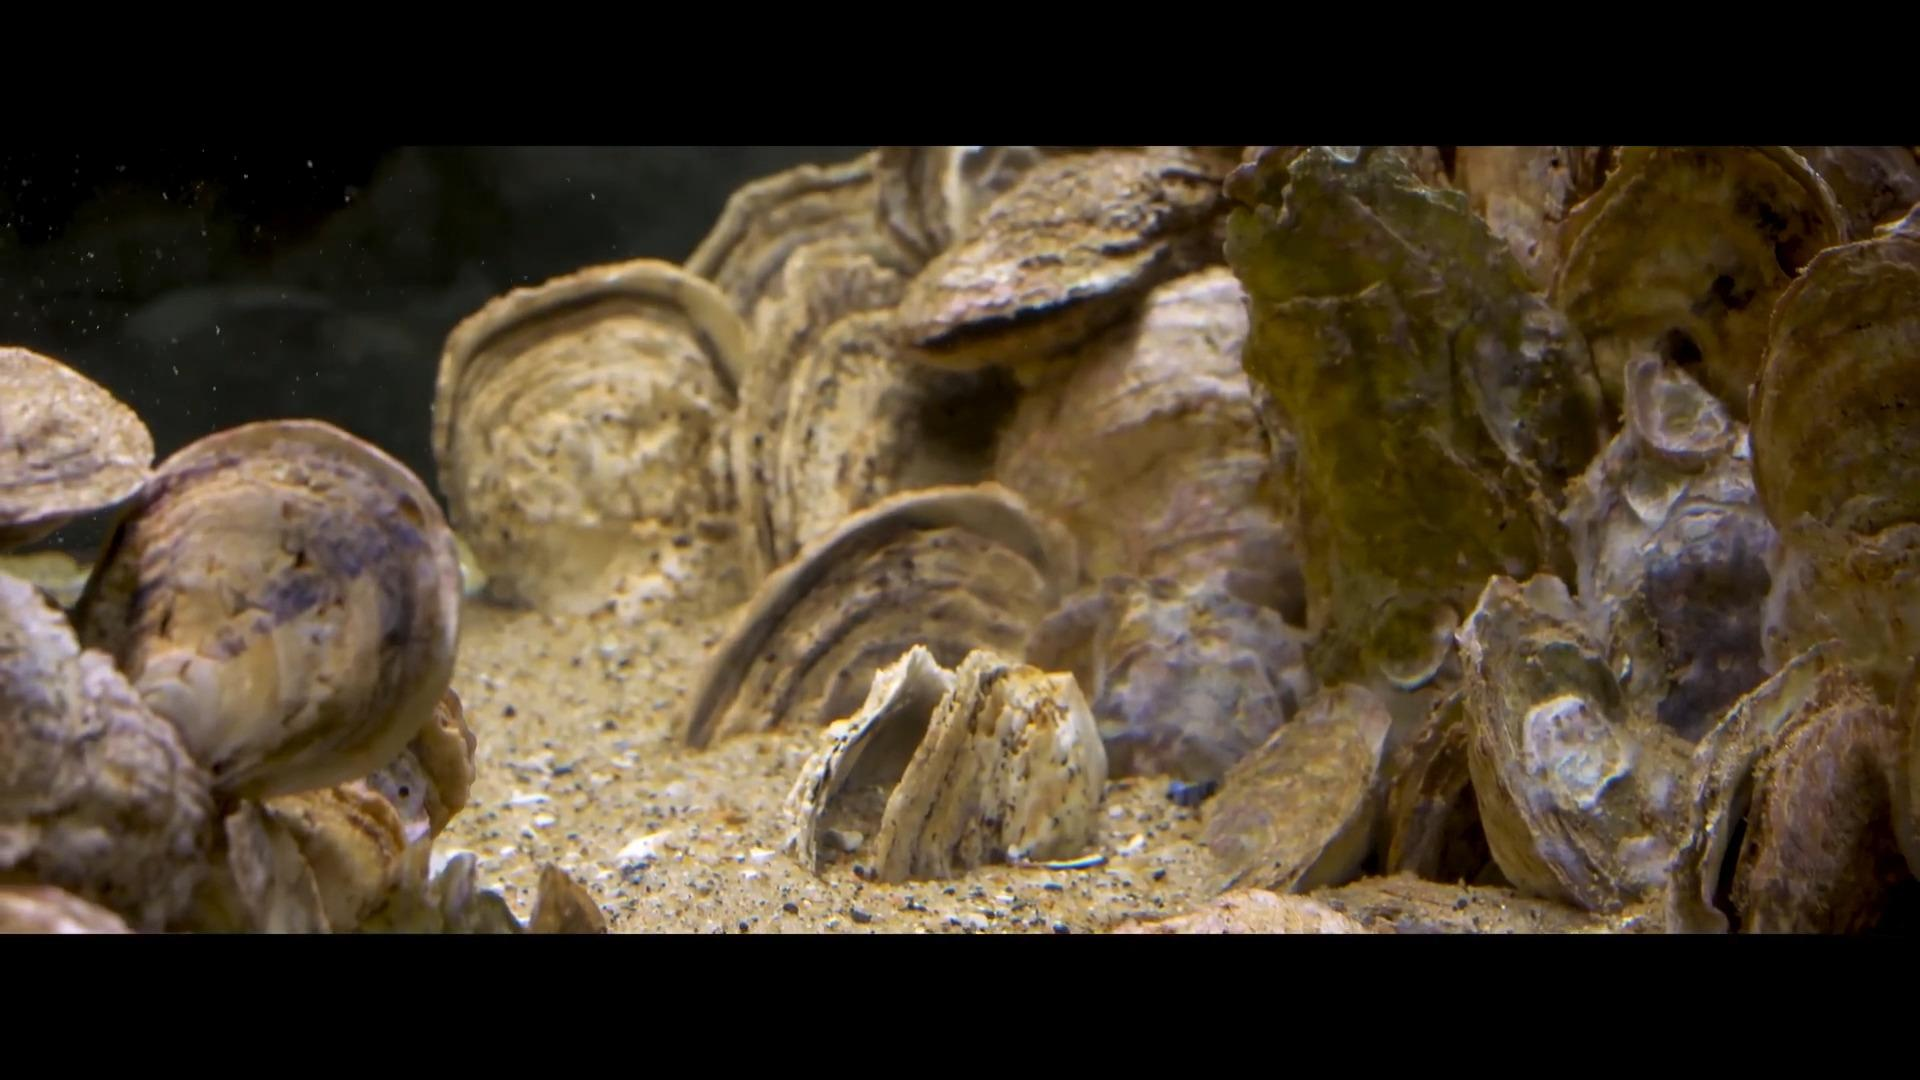Oyster: (79, 419, 463, 799), (431, 258, 748, 611), (676, 495, 1052, 744), (3, 574, 219, 924), (1553, 149, 1832, 415), (899, 145, 1233, 367), (849, 646, 1110, 877), (770, 306, 1005, 555), (1188, 686, 1387, 899), (694, 158, 909, 320), (1, 344, 158, 542)
